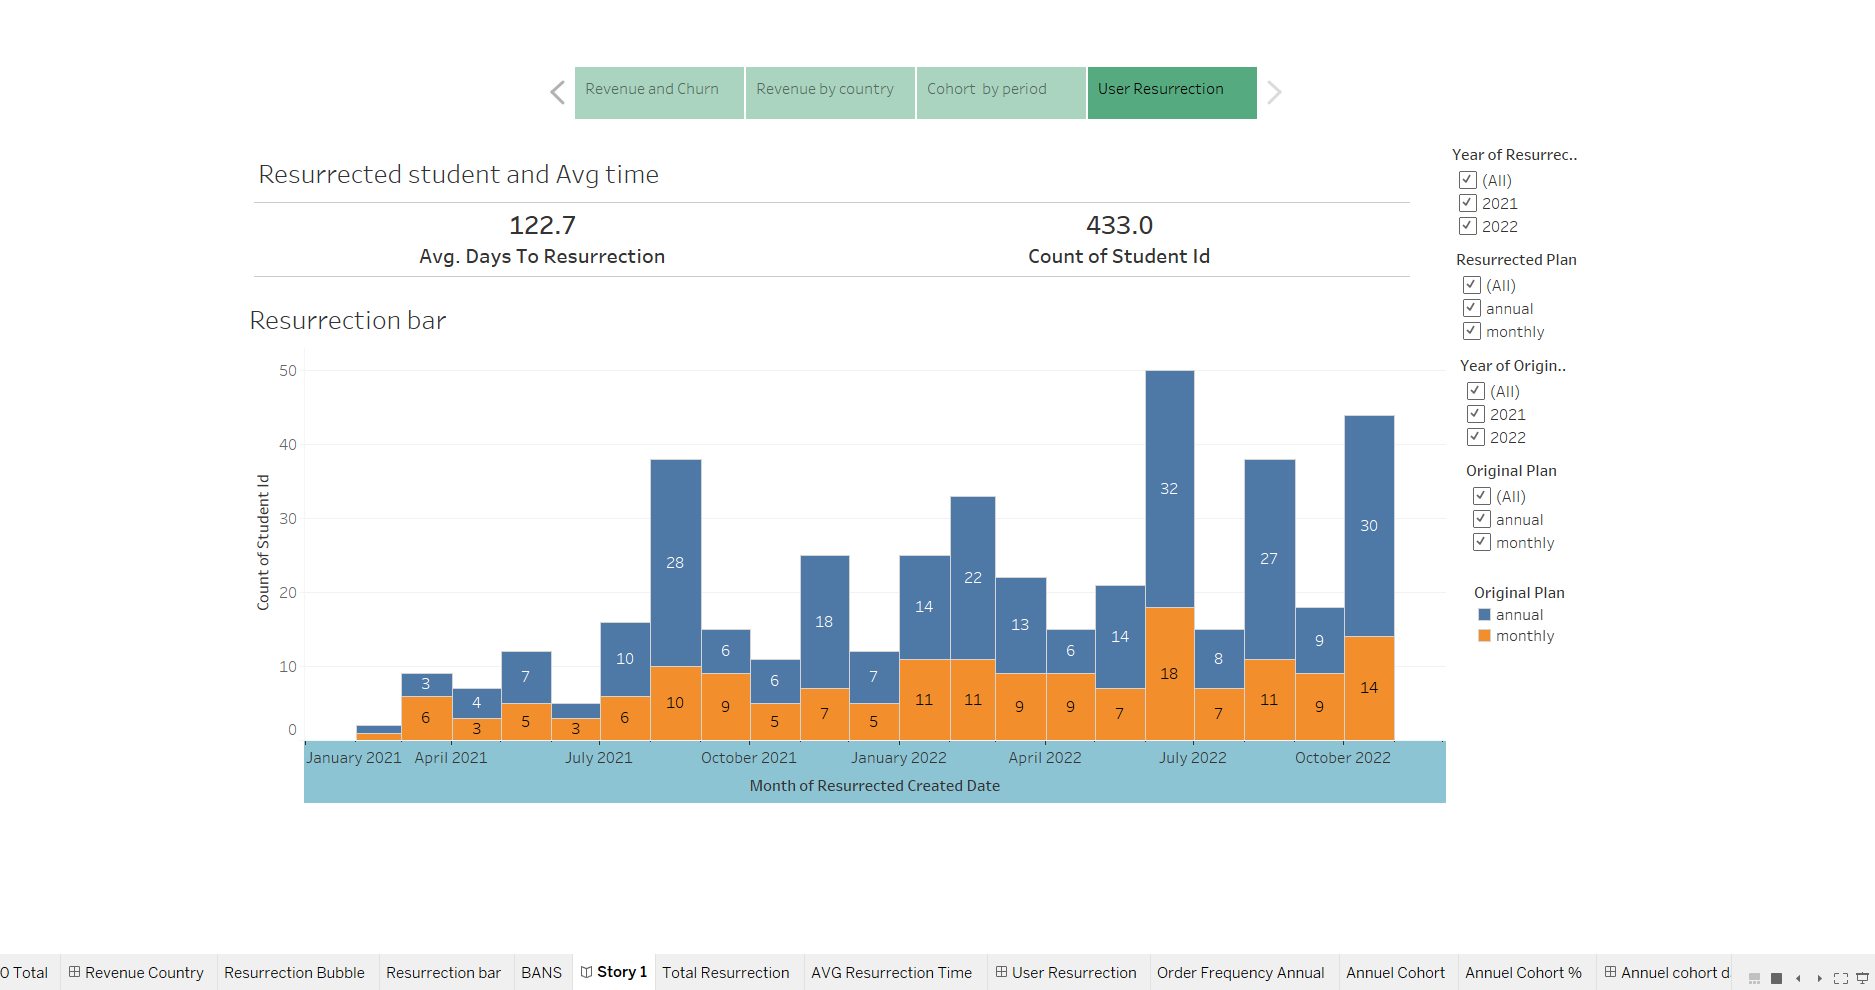

This screenshot's page, from the dashboard's own definition file:
{"tool":"tableau","page":{"name":"User Resurrection","canvas":[1350,669],"ordinal":3},"visuals":[{"type":"filter","title":"Resurrection bar","param":"[federated.0h01fse1ihxqyc1bwsy8n0int1k0].[yr:resurrected created date:ok]","box":[1211,5,131,97]},{"type":"worksheet","title":"BANS","mark":"Automatic","box":[13,13,1156,125]},{"type":"filter","title":"Resurrection bar","param":"[federated.0h01fse1ihxqyc1bwsy8n0int1k0].[none:resurrected plan:nk]","box":[1215,110,133,97]},{"type":"worksheet","title":"Resurrection bar","mark":"Bar","rows":["student_id"],"cols":["resurrected created date"],"box":[4,159,1201,505]},{"type":"filter","title":"Resurrection bar","param":"[federated.0h01fse1ihxqyc1bwsy8n0int1k0].[yr:original created date:ok]","box":[1219,216,114,97]},{"type":"filter","title":"Resurrection bar","param":"[federated.0h01fse1ihxqyc1bwsy8n0int1k0].[none:original plan:nk]","box":[1225,321,128,97]},{"type":"legend","title":"Resurrection bar","param":"[federated.0h01fse1ihxqyc1bwsy8n0int1k0].[none:original plan:nk]","box":[1233,443,114,64]}]}

Visuals, with their boxes on the page's 1350x669 design canvas (x1, y1, x2, y2). These are canvas units, not pixel positions in the 1875x990 screenshot, which may show the page scaled, cropped or inside an application window:
"Resurrection bar" filter: (1211, 5, 1342, 102)
"BANS" worksheet: (13, 13, 1169, 138)
"Resurrection bar" filter: (1215, 110, 1348, 207)
"Resurrection bar" worksheet (Bar marks): (4, 159, 1205, 664)
"Resurrection bar" filter: (1219, 216, 1333, 313)
"Resurrection bar" filter: (1225, 321, 1353, 418)
"Resurrection bar" legend: (1233, 443, 1347, 507)
